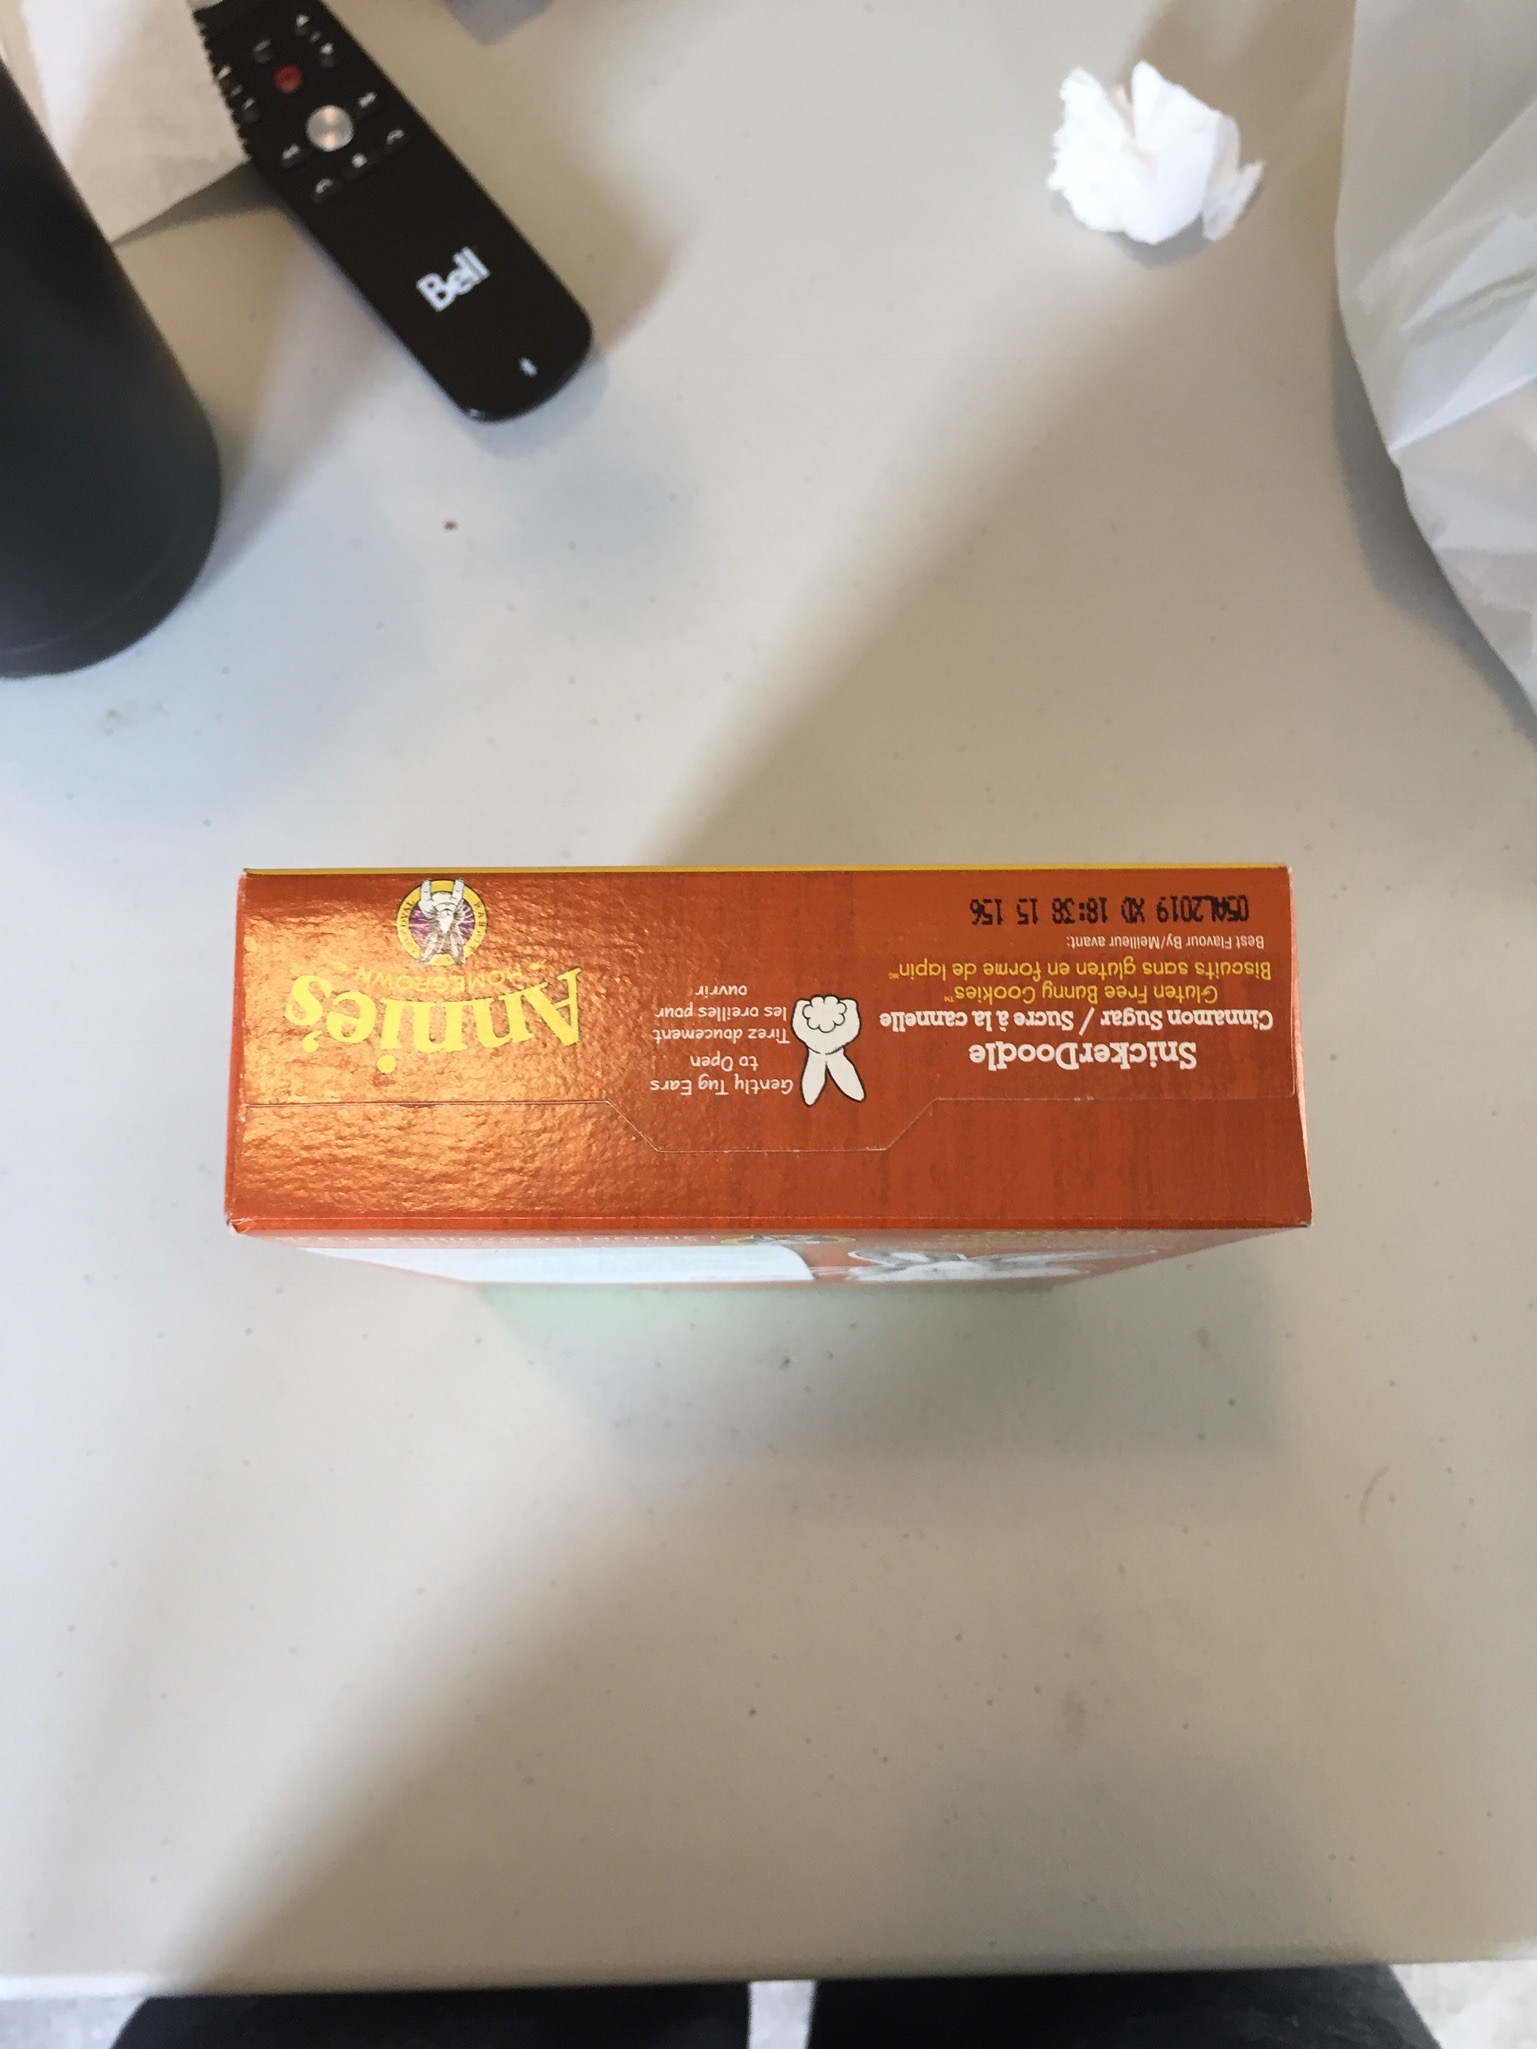annies_snickerdoodles_cinnamon_sugar: (253, 880, 1279, 1209)
